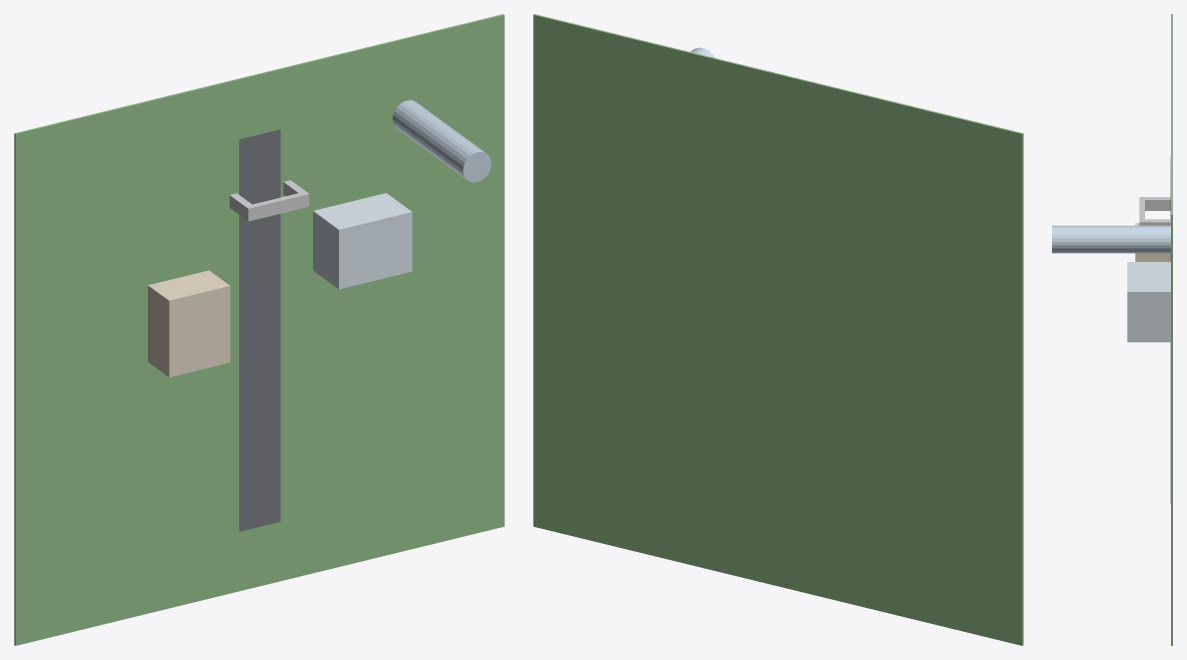
File: suburban.glb
3 views of the same model, side by side, from view 1: azimuth 30°, elevation 25°; view 2: azimuth 150°, elevation 25°; view 3: azimuth 270°, elevation 25° (orthographic). The views are drawn at different scales.
Visible parts, largest first — view 1: XPLAY_GROUND, XPLAY_ROAD, XPLAY_HOUSE_RIGHT, XPLAY_HOUSE_LEFT, XPLAY_WATER_TOWER, XPLAY_GATE_TOP; view 2: XPLAY_GROUND; view 3: XPLAY_HOUSE_RIGHT, XPLAY_WATER_TOWER, XPLAY_GROUND, XPLAY_GATE_L, XPLAY_HOUSE_LEFT, XPLAY_ROAD, XPLAY_GATE_R.
Boxes of the visible parts, x1=… form: XPLAY_GROUND: x1=14, y1=14, x2=504, y2=645; XPLAY_ROAD: x1=239, y1=129, x2=280, y2=531; XPLAY_HOUSE_RIGHT: x1=313, y1=193, x2=412, y2=289; XPLAY_HOUSE_LEFT: x1=148, y1=270, x2=230, y2=377; XPLAY_WATER_TOWER: x1=392, y1=100, x2=491, y2=182; XPLAY_GATE_TOP: x1=247, y1=193, x2=309, y2=221; XPLAY_GROUND: x1=533, y1=14, x2=1023, y2=645; XPLAY_HOUSE_RIGHT: x1=1127, y1=262, x2=1170, y2=342; XPLAY_WATER_TOWER: x1=1052, y1=225, x2=1170, y2=253; XPLAY_GROUND: x1=1171, y1=14, x2=1172, y2=645; XPLAY_GATE_L: x1=1139, y1=197, x2=1170, y2=210; XPLAY_HOUSE_LEFT: x1=1135, y1=223, x2=1170, y2=261; XPLAY_ROAD: x1=1170, y1=156, x2=1170, y2=503; XPLAY_GATE_R: x1=1139, y1=219, x2=1170, y2=225.
Size of the model in its own units: 120 by 120 by 30.5.
